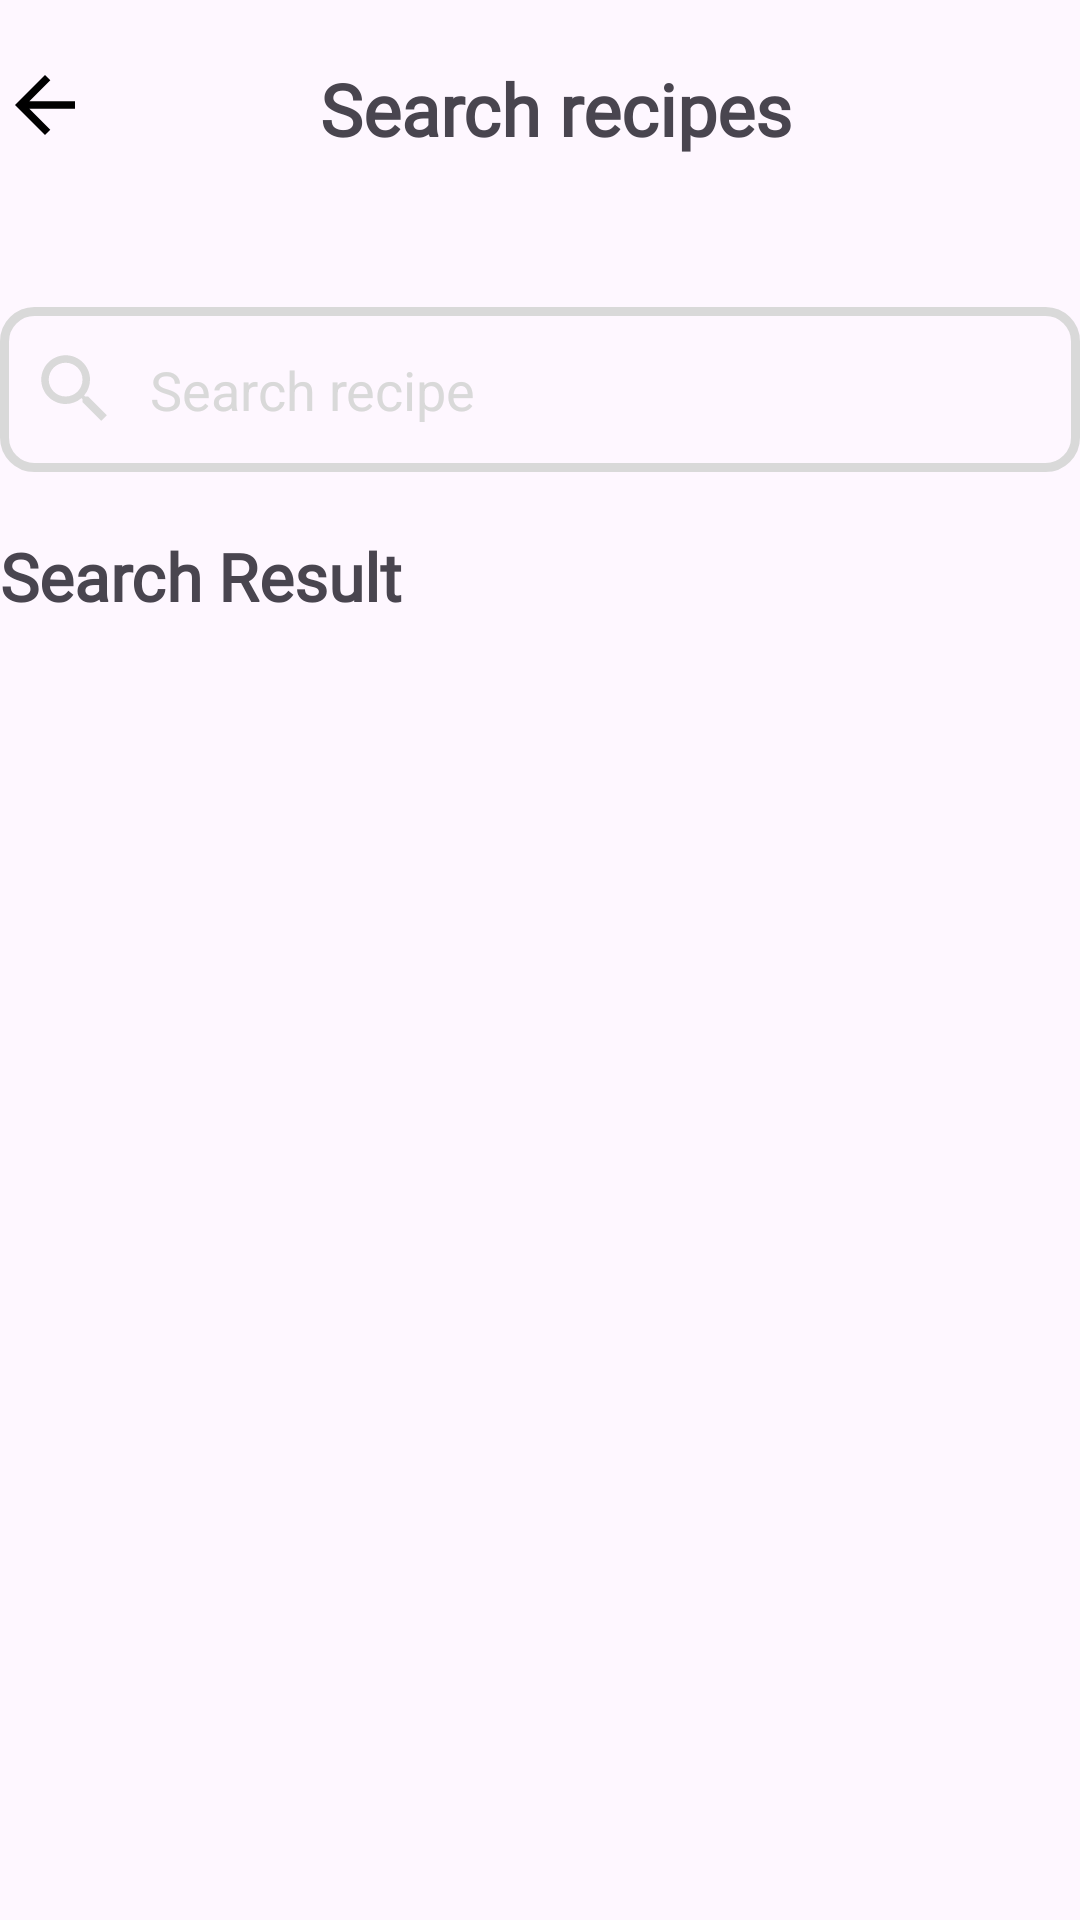

Named icons in this screenshot (1080px x 1920px) and their centers, (x,y):
left arrow: (45,105)
